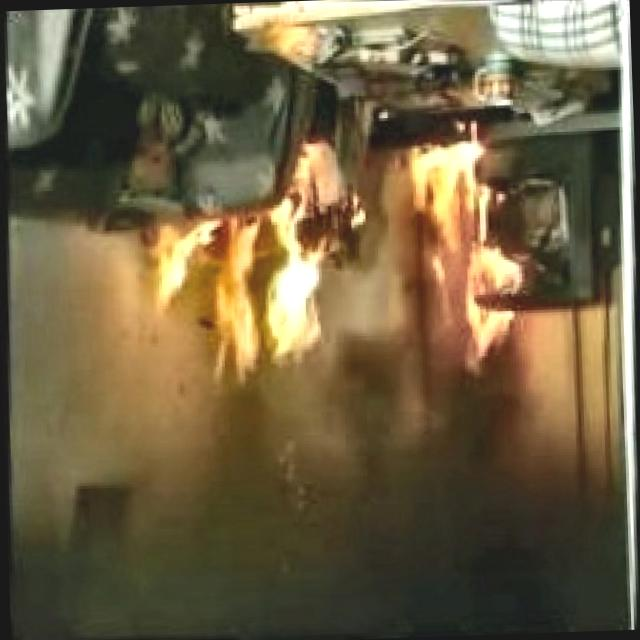fire: (124, 180, 531, 406)
